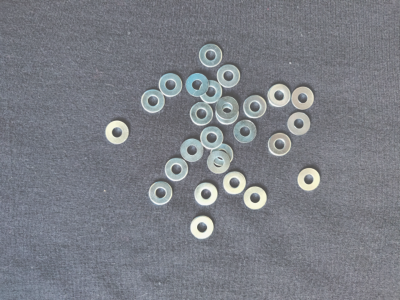circle: (242, 94, 269, 121), (296, 166, 323, 193), (194, 181, 222, 207), (196, 43, 225, 68), (197, 79, 223, 105), (180, 138, 206, 164), (243, 186, 269, 212), (106, 118, 130, 146), (267, 82, 293, 107), (216, 63, 242, 88), (140, 89, 166, 114), (148, 181, 174, 206), (234, 118, 259, 144), (267, 133, 292, 159), (287, 112, 313, 137), (189, 216, 215, 241), (165, 157, 190, 182), (291, 86, 315, 111), (200, 126, 225, 150), (223, 172, 248, 196), (216, 99, 239, 125), (190, 102, 214, 126), (159, 74, 183, 98), (210, 143, 234, 167), (215, 97, 239, 120), (187, 73, 209, 97), (207, 152, 231, 174)
